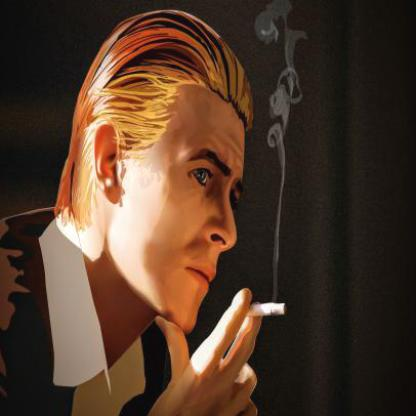cigarette: (240, 300, 288, 320)
person: (0, 20, 271, 415)
